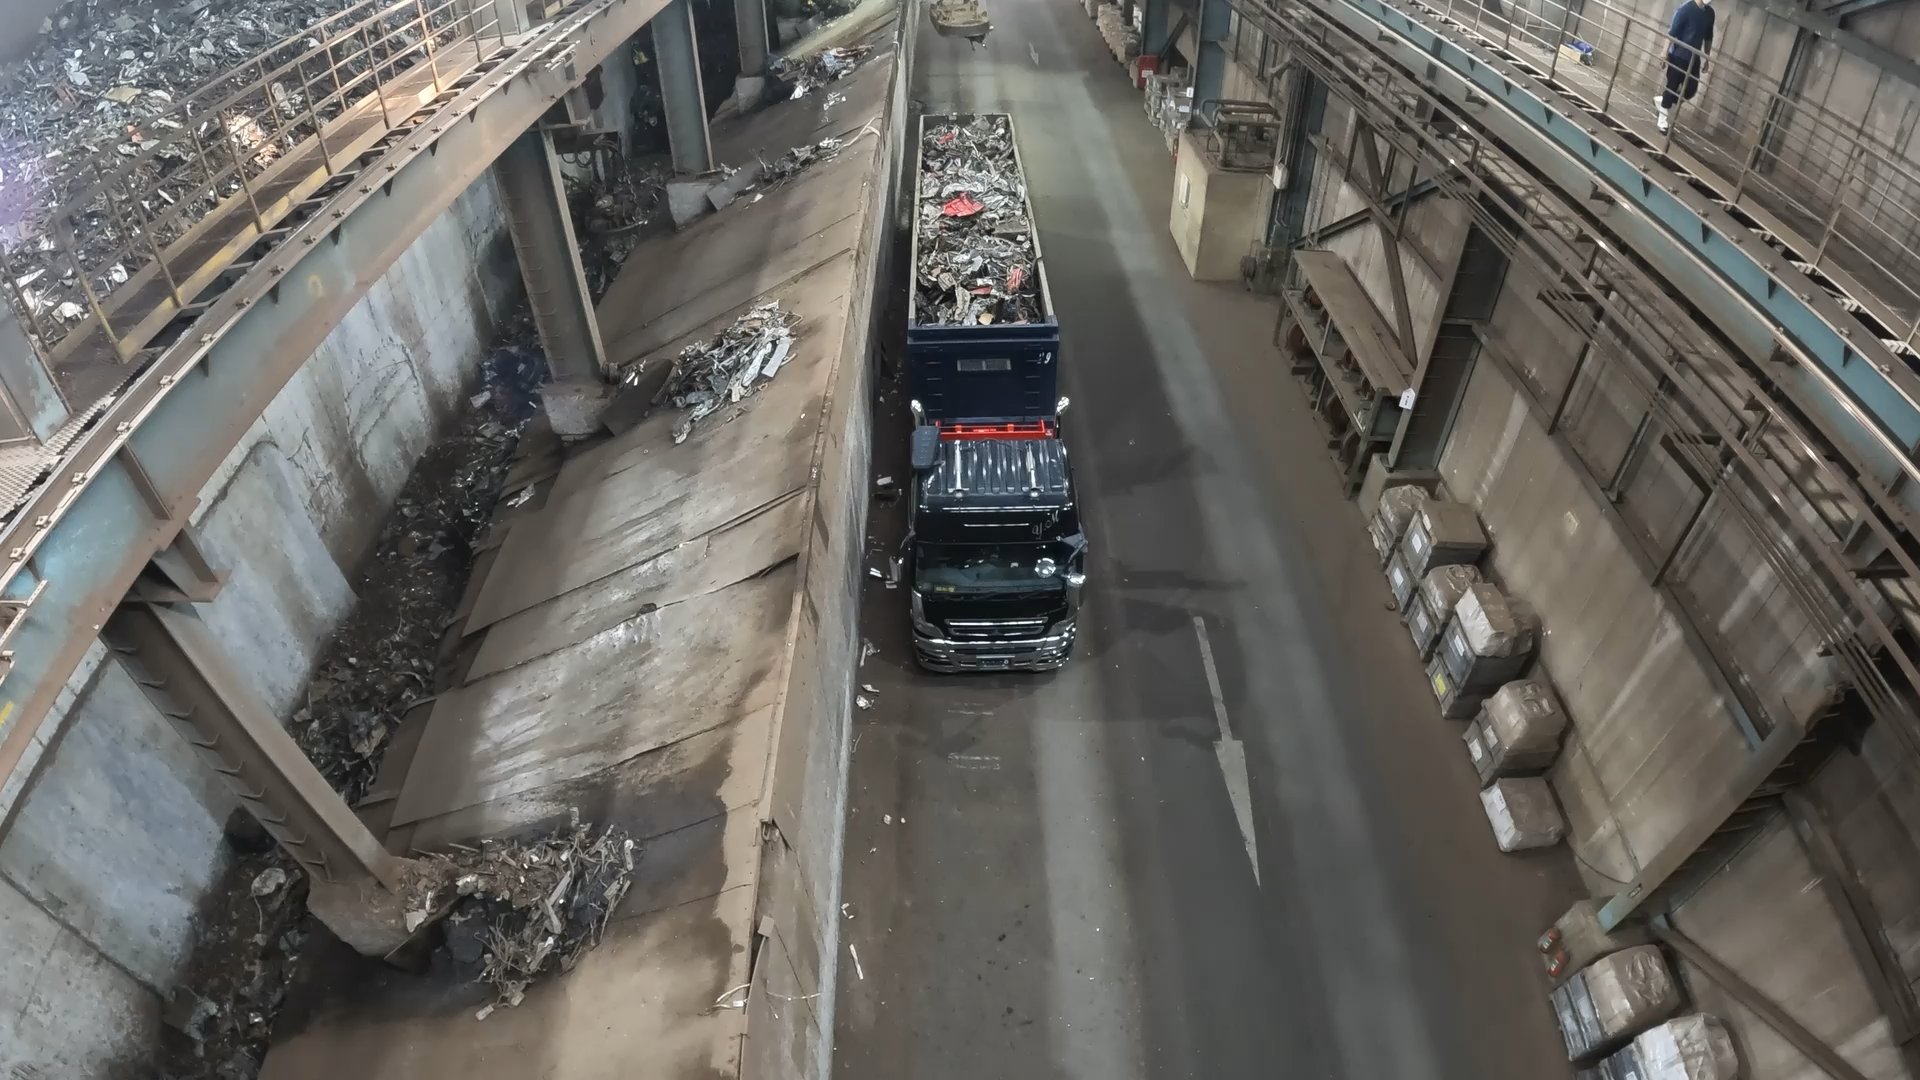truck: (910, 113, 1056, 328)
